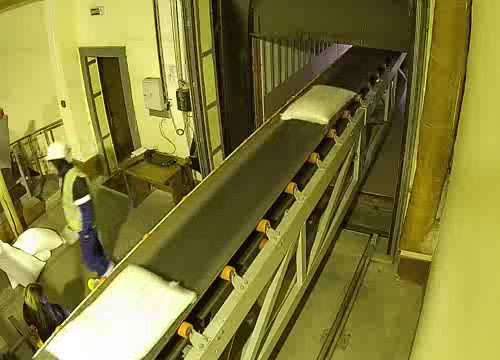bag: (36, 256, 200, 360), (279, 83, 362, 126)
